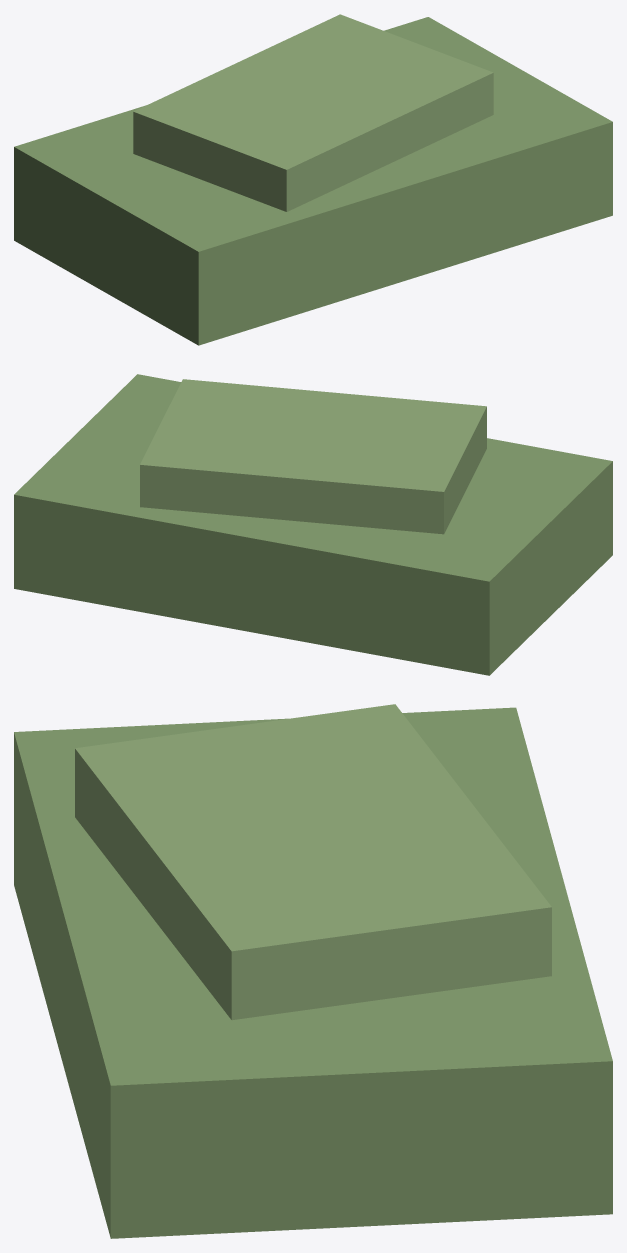
The model's file is structure.glb.
3 renders of one model, top to bottom at view 1: azimuth 30°, elevation 25°; view 2: azimuth 150°, elevation 25°; view 3: azimuth 270°, elevation 25°, orthographic. The views are drawn at different scales.
Parts seen in each view (by area): view 1: Box1, Box2; view 2: Box1, Box2; view 3: Box1, Box2.
Part boxes in pixels (x1,y1,x2,y2): Box1: (14,17,612,345); Box2: (133,14,493,211); Box1: (14,374,612,675); Box2: (140,379,486,534); Box1: (14,707,612,1238); Box2: (75,704,551,1020).
Bounding box in the file's own units: 140 × 38.21 × 93.45.
